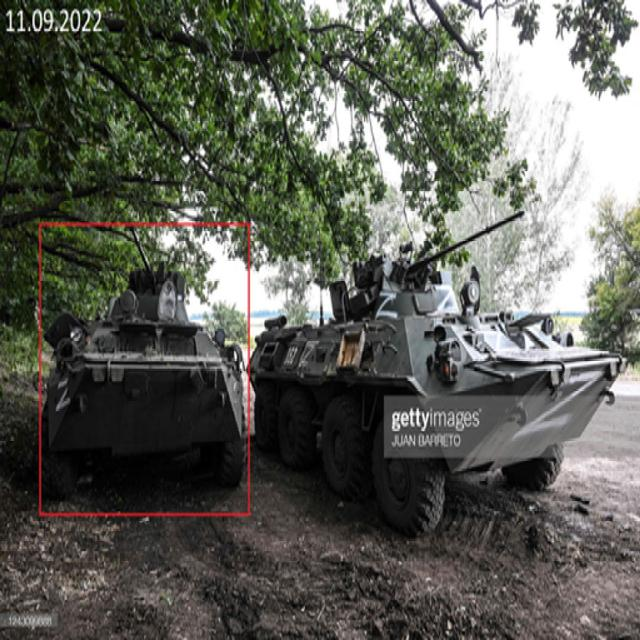APC-IFV: (246, 206, 622, 544), (39, 222, 246, 511)
